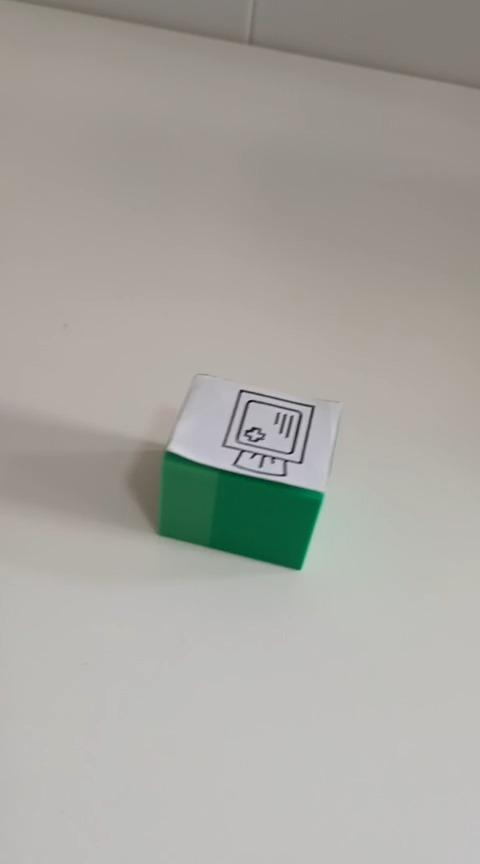Gauze: (156, 371, 343, 571)
